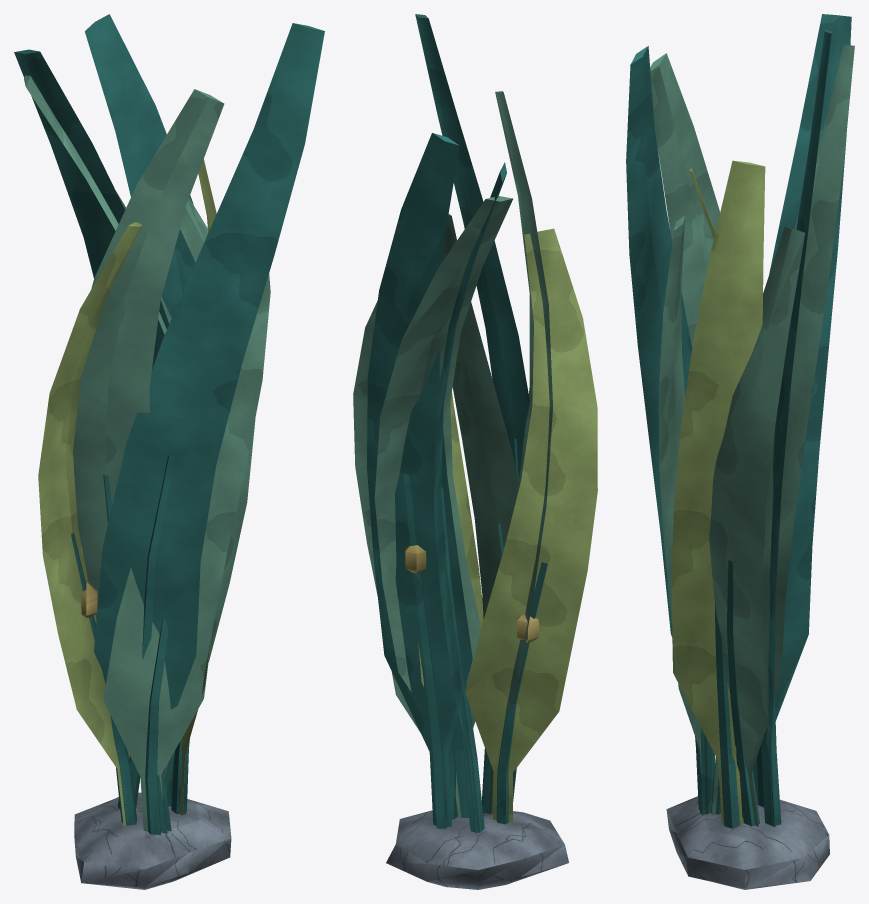
Rendered from kelp_tall.glb.
3 renders of one model, left to right at view 1: azimuth 30°, elevation 25°; view 2: azimuth 150°, elevation 25°; view 3: azimuth 270°, elevation 25°, orthographic. The views are drawn at different scales.
Visible parts, largest first — view 1: DL007_KelpTall_kelp_deep, DL007_KelpTall_kelp_mid, DL007_KelpTall_kelp_lime, DL007_KelpTall_stone_blue; view 2: DL007_KelpTall_kelp_deep, DL007_KelpTall_kelp_lime, DL007_KelpTall_kelp_mid, DL007_KelpTall_stone_blue, DL007_KelpTall_kelp_gold; view 3: DL007_KelpTall_kelp_mid, DL007_KelpTall_kelp_deep, DL007_KelpTall_kelp_lime, DL007_KelpTall_stone_blue.
Boxes of the visible parts, x1,y1,x2,y2 form: DL007_KelpTall_kelp_deep: [14, 14, 324, 835]; DL007_KelpTall_kelp_mid: [24, 75, 270, 831]; DL007_KelpTall_kelp_lime: [38, 159, 216, 826]; DL007_KelpTall_stone_blue: [74, 792, 231, 889]; DL007_KelpTall_kelp_deep: [367, 14, 547, 833]; DL007_KelpTall_kelp_lime: [418, 228, 597, 822]; DL007_KelpTall_kelp_mid: [353, 91, 552, 817]; DL007_KelpTall_stone_blue: [386, 810, 568, 889]; DL007_KelpTall_kelp_gold: [405, 545, 538, 642]; DL007_KelpTall_kelp_mid: [650, 44, 854, 826]; DL007_KelpTall_kelp_deep: [626, 14, 851, 828]; DL007_KelpTall_kelp_lime: [671, 160, 765, 825]; DL007_KelpTall_stone_blue: [666, 796, 829, 889].
Bounding box in the file's own units: 1.78 × 6.05 × 1.43.
5 materials, 5 textured.
